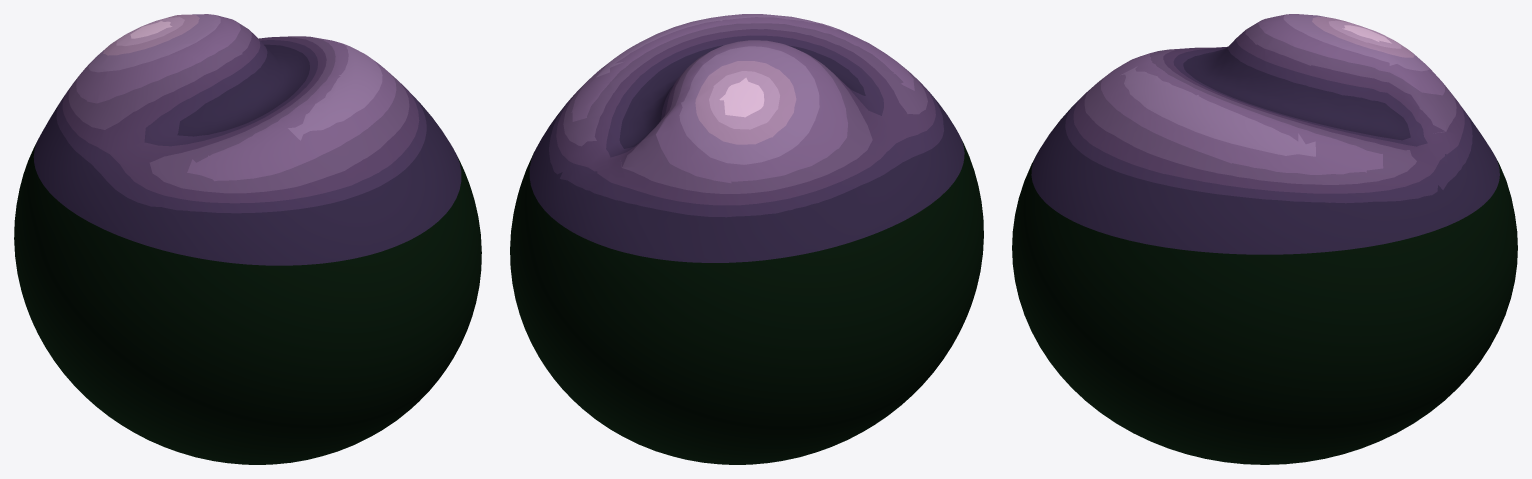
File: orb_whorl_121.glb
3 views of the same model, side by side, from view 1: azimuth 30°, elevation 25°; view 2: azimuth 150°, elevation 25°; view 3: azimuth 270°, elevation 25° (orthographic).
Visible parts, largest first — view 1: orb_whorl_121; view 2: orb_whorl_121; view 3: orb_whorl_121.
Boxes of the visible parts, box(x1,y1,x2,y2) form: orb_whorl_121: box(14, 14, 481, 464); orb_whorl_121: box(510, 14, 983, 464); orb_whorl_121: box(1012, 14, 1517, 464).
Bounding box in the file's own units: 19 × 18.53 × 21.
